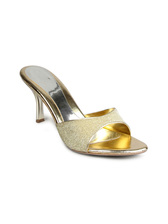shoes: (14, 58, 151, 159)
